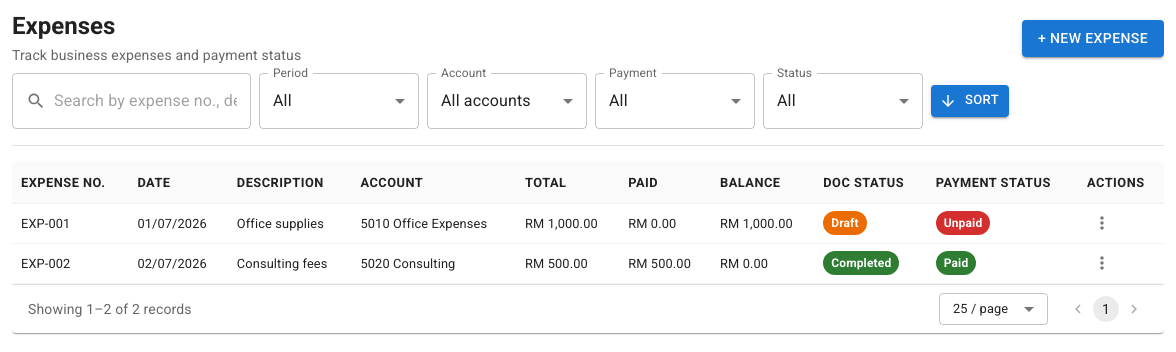
Scenario: ExpensesPage › Account filter eligibility (#1016) › offers no account options while the account tree errored
Click the dropdown labelled "account": (486, 101) [441,91,531,110]
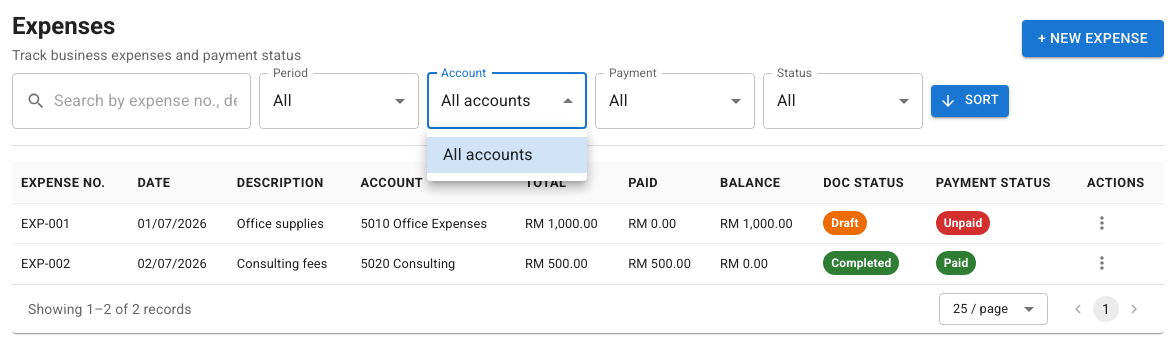
expect the number of options is 1: met, box [427,137,587,173]
